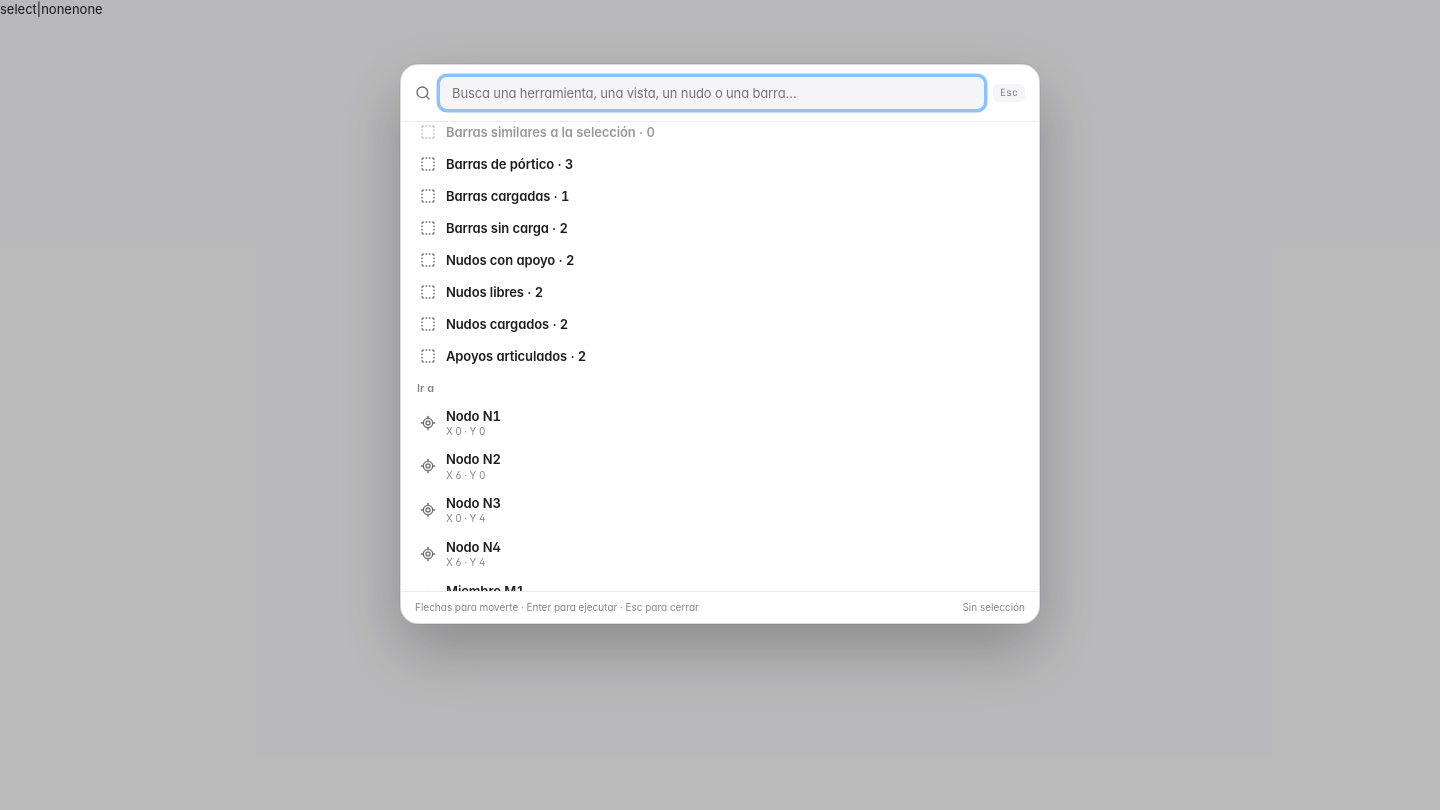
it: CommandPalette › selecciona por propiedad y deja una selección múltiple en el store
(page scrolled)
El recuento viaja en la etiqueta: dos apoyos articulados en el pórtico.
Click the option "Apoyos articulados · 2".
click(516, 356)  # box [409,340,1031,372]
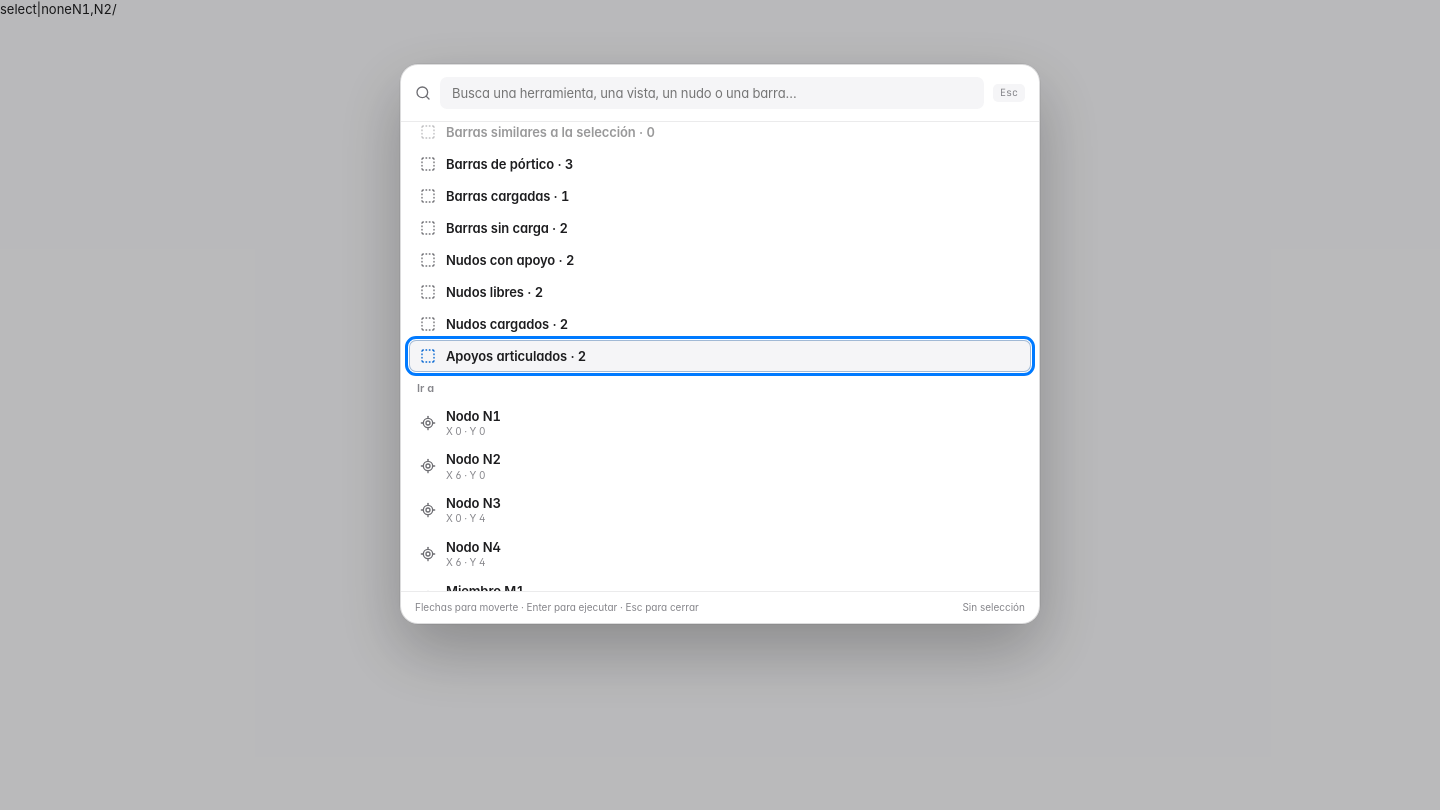
Expected: the text with test id "multi" reads "N1,N2/", [72,1,116,17]
